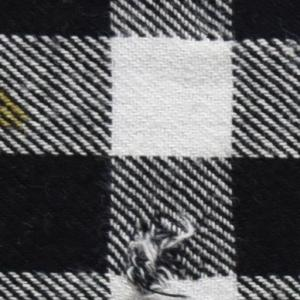Damage: (118, 205, 213, 300)
Stain: (1, 86, 34, 135)
